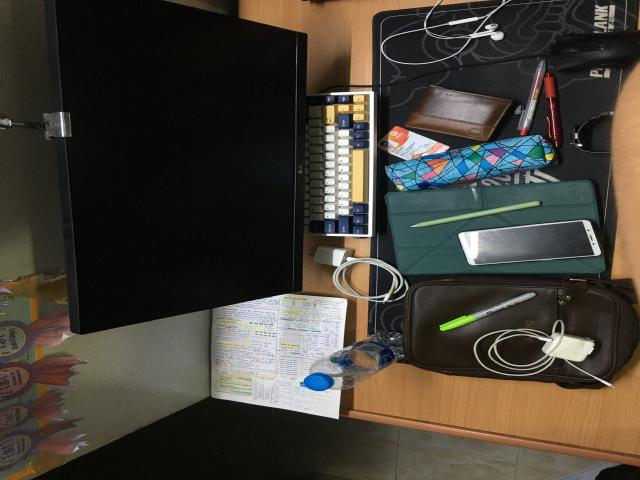Mobile phone: (458, 220, 600, 265)
Mouse: (550, 31, 640, 72)
Pen: (440, 292, 537, 331), (518, 60, 547, 136), (543, 72, 563, 148)
Wallet: (405, 86, 513, 142)
Watch: (572, 111, 613, 154)
bottle: (303, 333, 403, 391)
paper: (212, 294, 347, 417)
wire: (473, 320, 619, 389), (380, 0, 512, 65), (313, 246, 408, 303)
